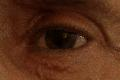eye: (45, 29, 76, 49)
